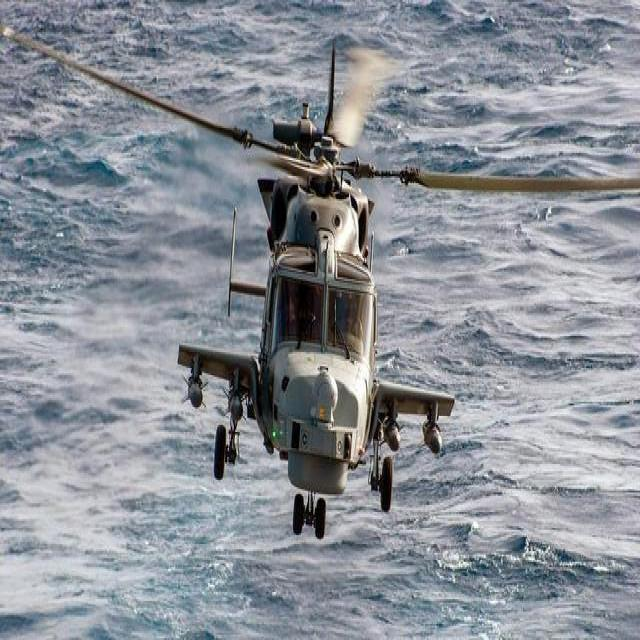MIL_HELO: (0, 2, 631, 544)
